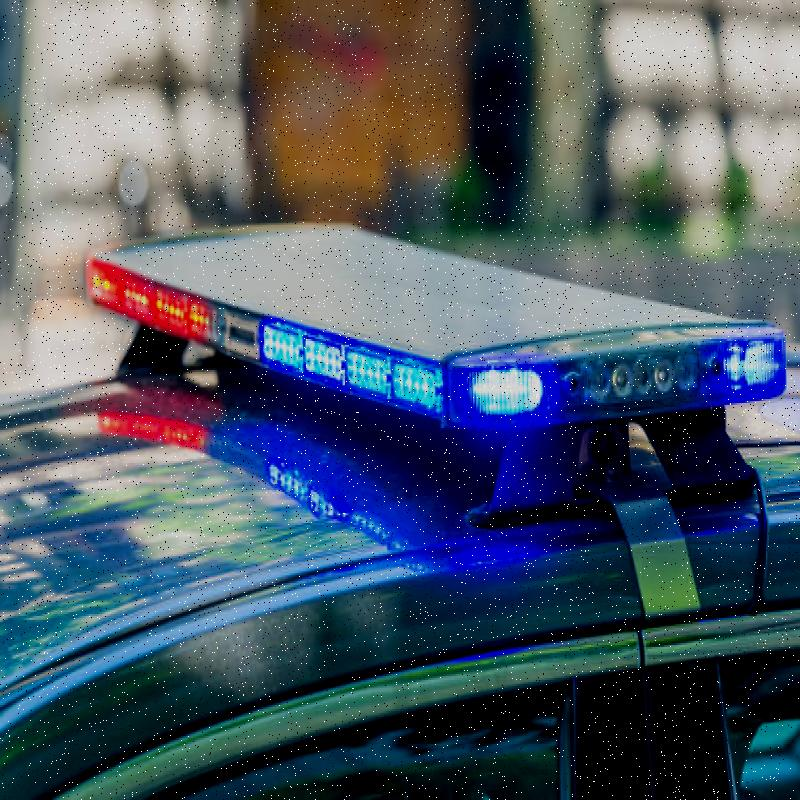AmbulanceSiren: (111, 174, 769, 435)
